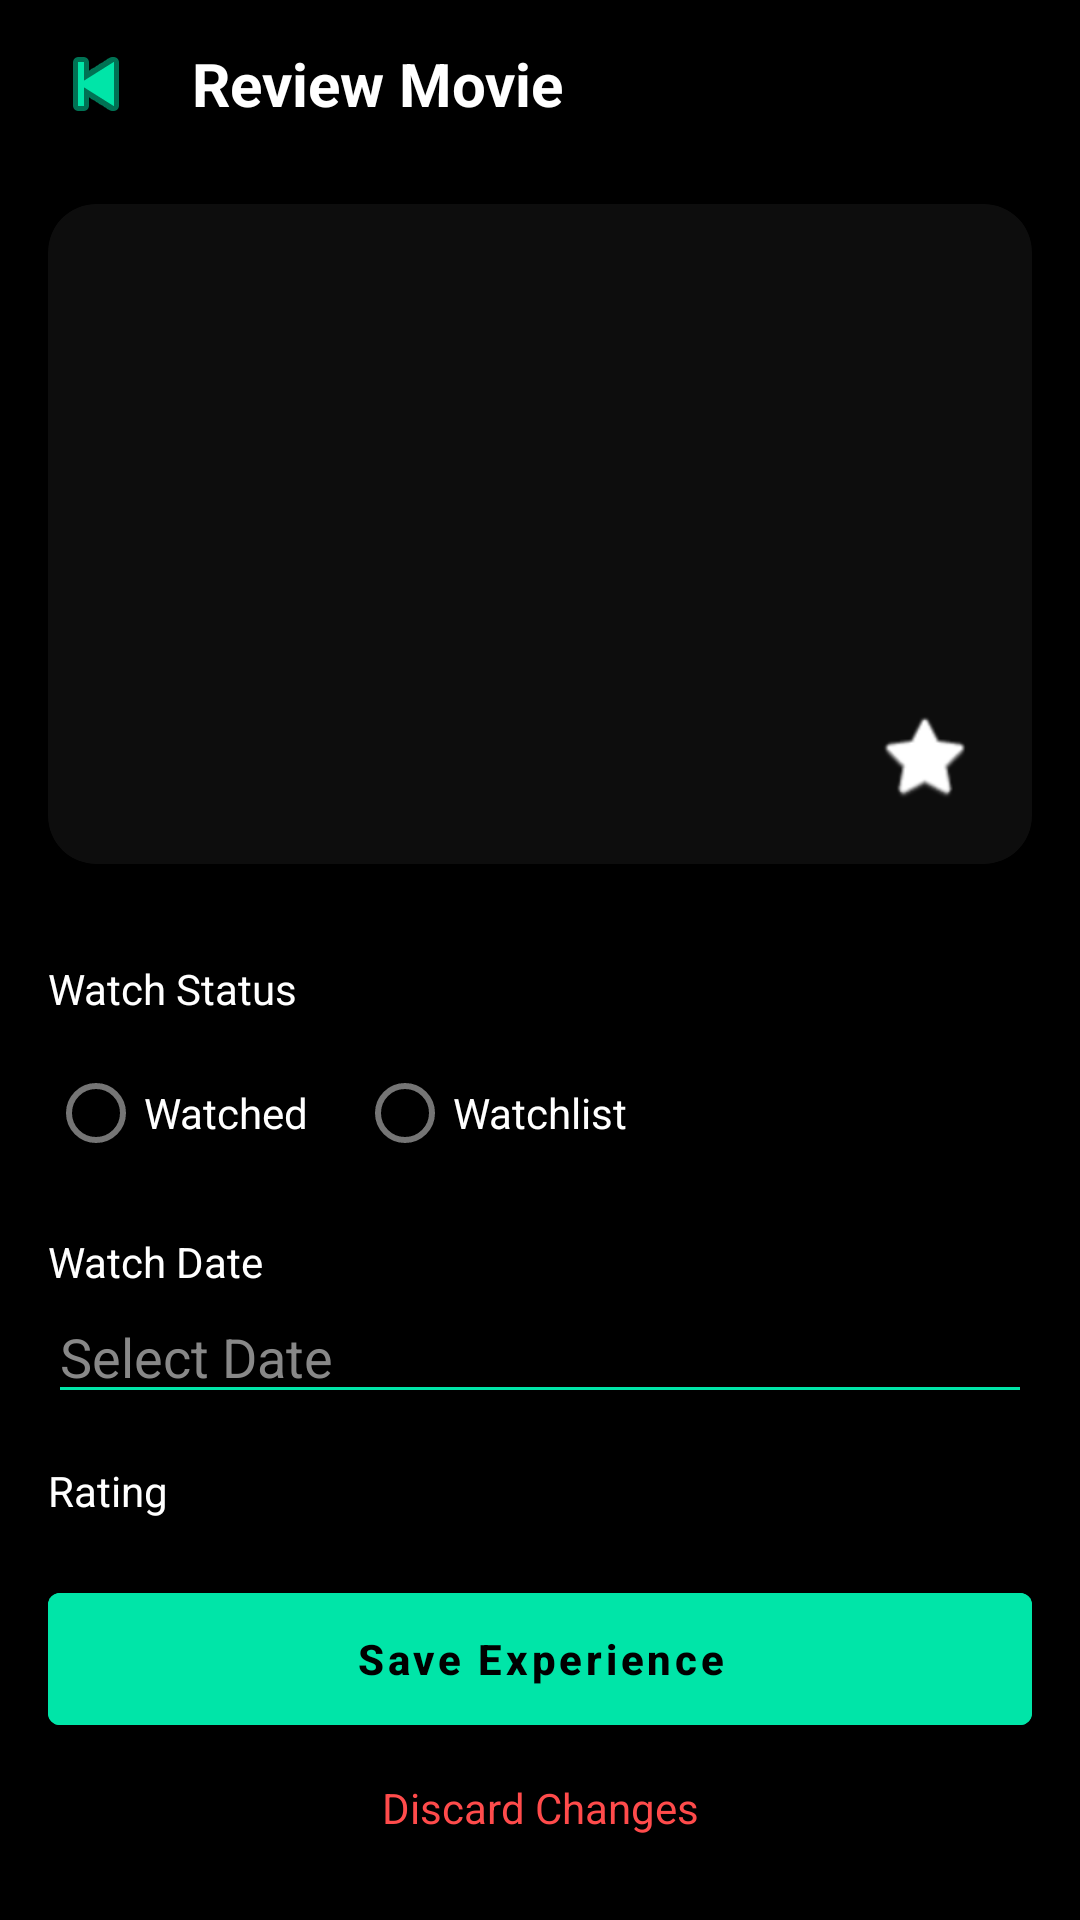

Point at icon controls on the screen. Image size 1080px×1920px, points as point (x, y).
star off: point (925, 757)
